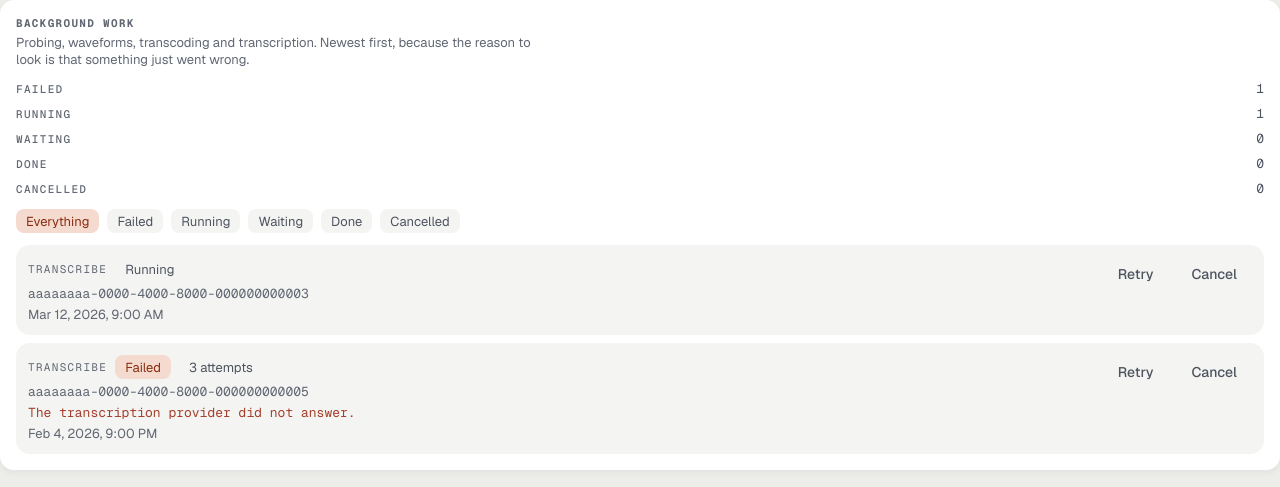
Test: narrowing by state › asks the instance rather than filtering what is already on screen
Expected: the text "The transcription provider did not answer." is shown, x1=28 y1=404 x2=356 y2=421
Step 1. Click the button "Running" → [206, 221], box x1=171 y1=209 x2=240 y2=233
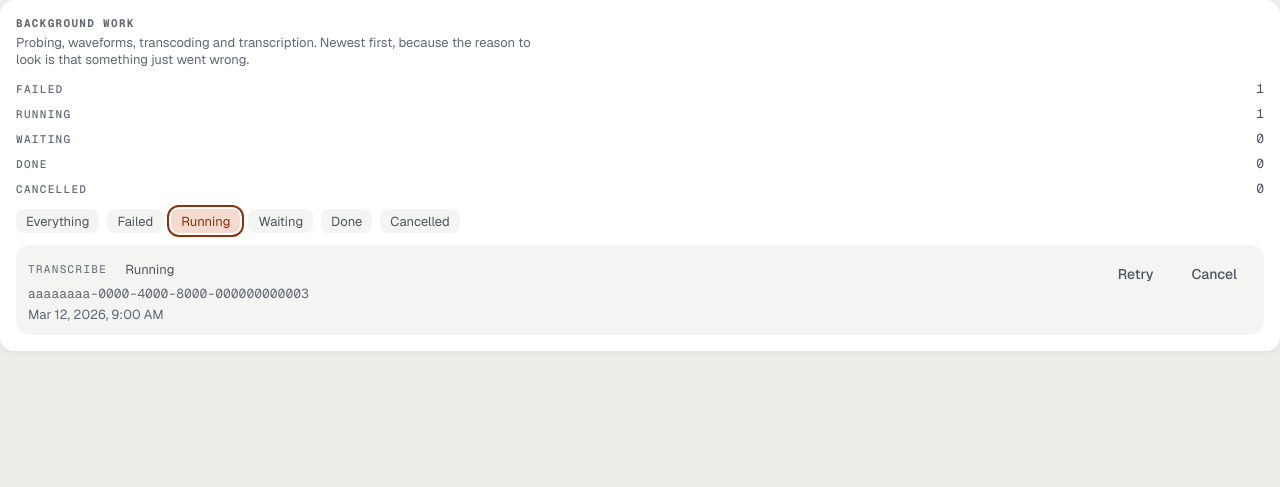
Result: the text "The transcription provider did not answer." is gone
